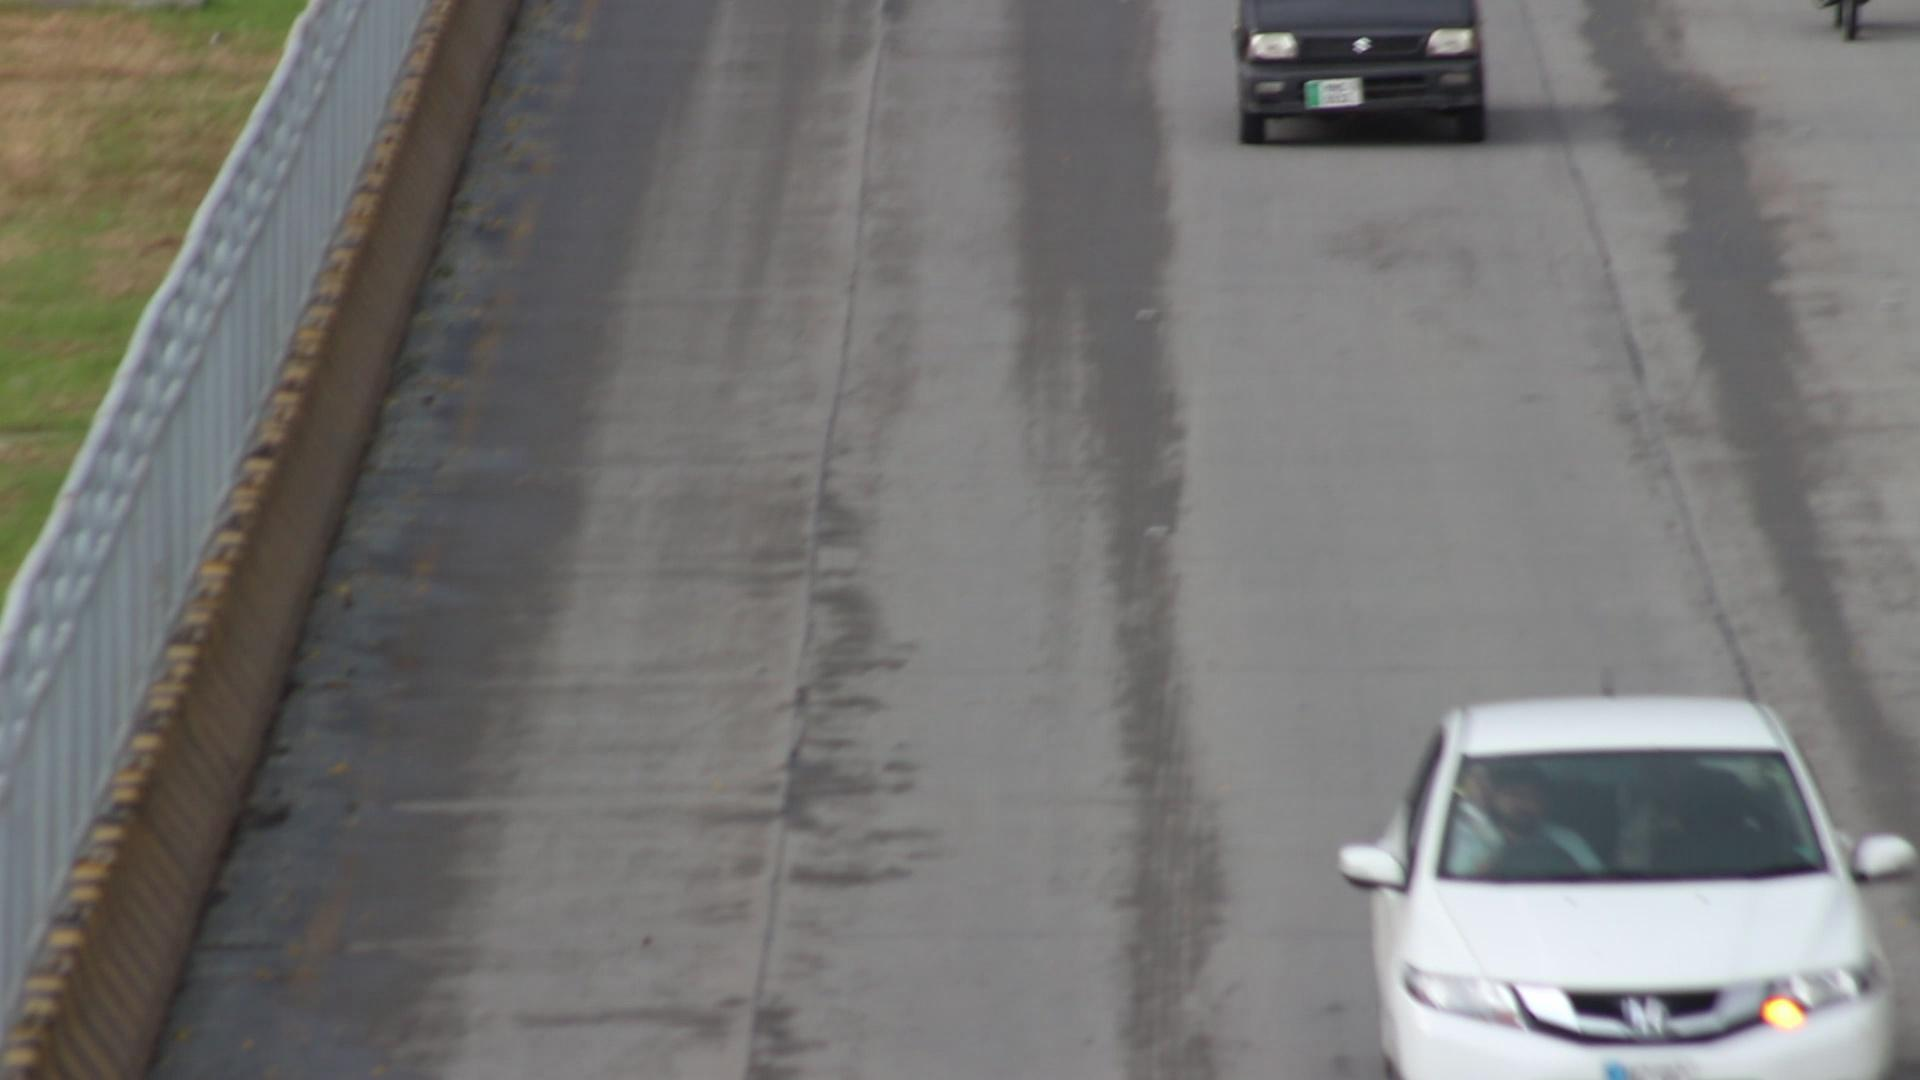windshield: (1431, 744, 1841, 890)
